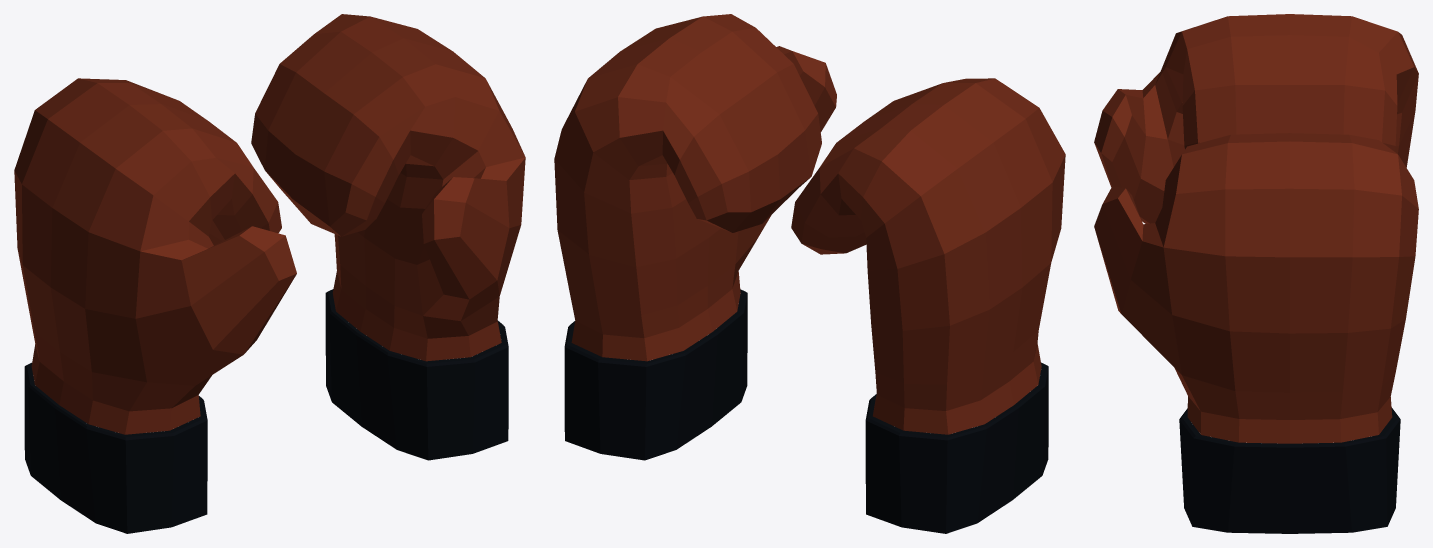
The model's file is boxing-gloves.glb.
3 views of the same model, side by side, from view 1: azimuth 30°, elevation 25°; view 2: azimuth 150°, elevation 25°; view 3: azimuth 270°, elevation 25° (orthographic). The views are drawn at different scales.
Visible parts, largest first — view 1: RBoxingGloves1; view 2: RBoxingGloves1; view 3: RBoxingGloves1.
Part boxes in pixels (box(x1,y1,x2,y2)): RBoxingGloves1: box(14, 14, 525, 533); RBoxingGloves1: box(554, 14, 1065, 533); RBoxingGloves1: box(1094, 14, 1418, 533).
Size of the model in its own units: 0.3898 by 0.3263 by 0.2665.
